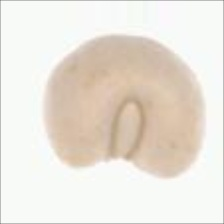L5: (108, 94, 147, 164)
L6: (38, 33, 206, 181)
